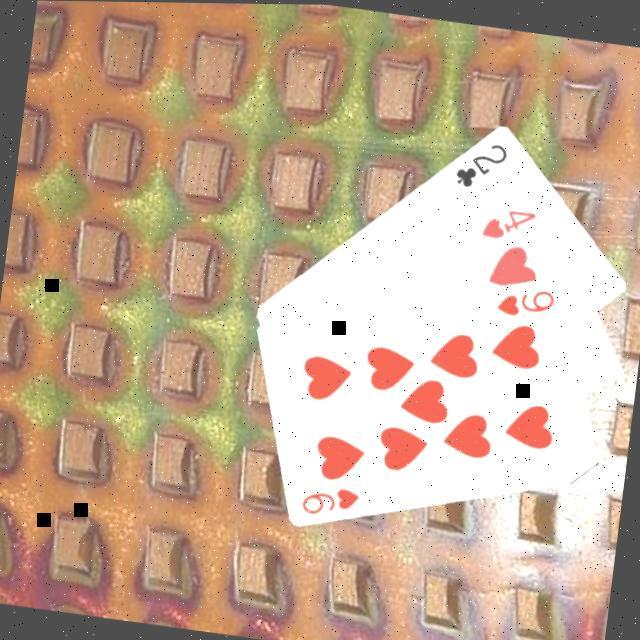2C: (452, 131, 514, 192)
4H: (480, 198, 542, 244)
9H: (494, 276, 562, 321), (299, 476, 365, 520)
